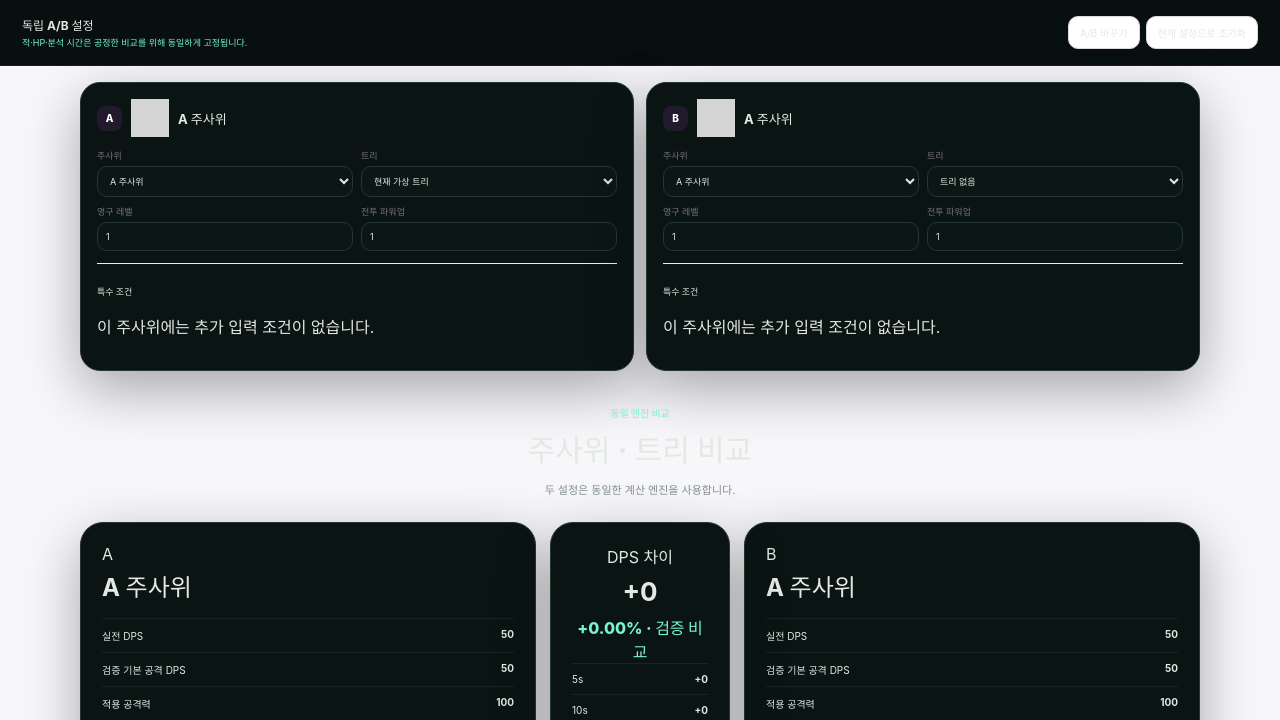
Scenario: CompareWorkspace › edits A and B independently and can swap them
The width and height of the screenshot is (1280, 720).
Select "B 주사위" in the dropdown named "B 주사위" at (791, 182), box x1=663 y1=166 x2=919 y2=197
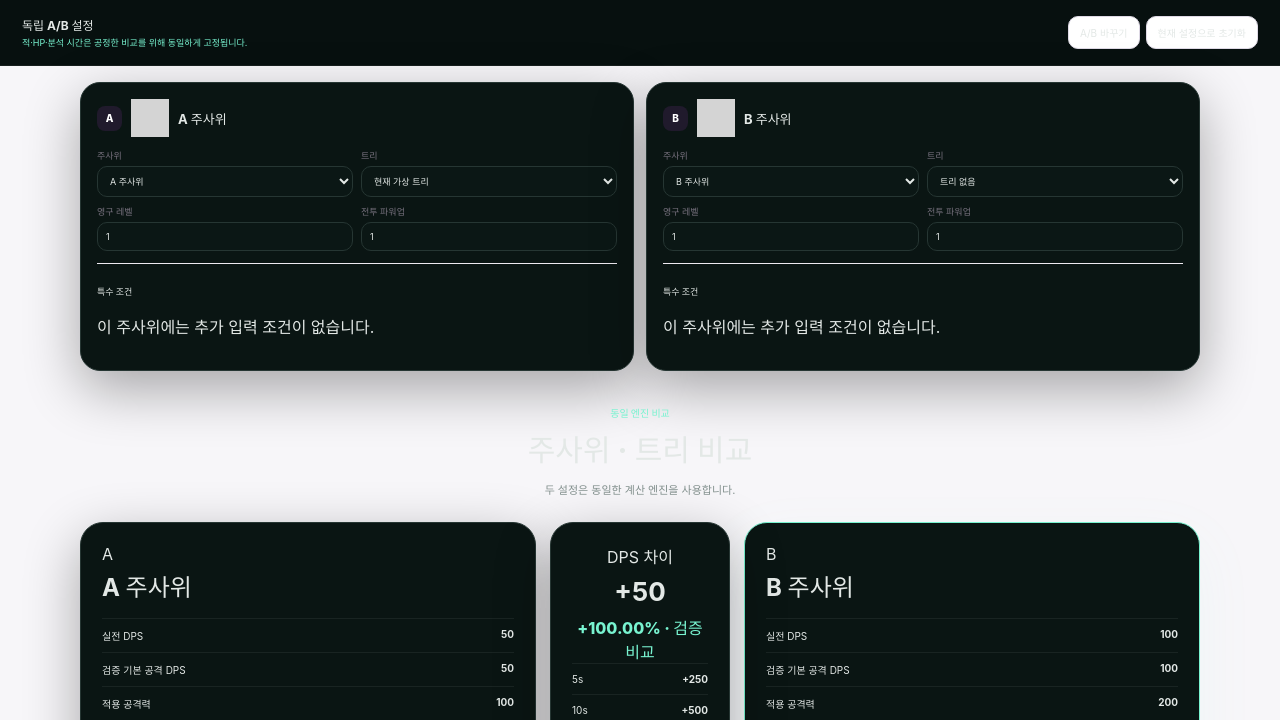
Replace the text in the number field named "B 영구 레벨" with "4" at (791, 236), box x1=663 y1=222 x2=919 y2=251
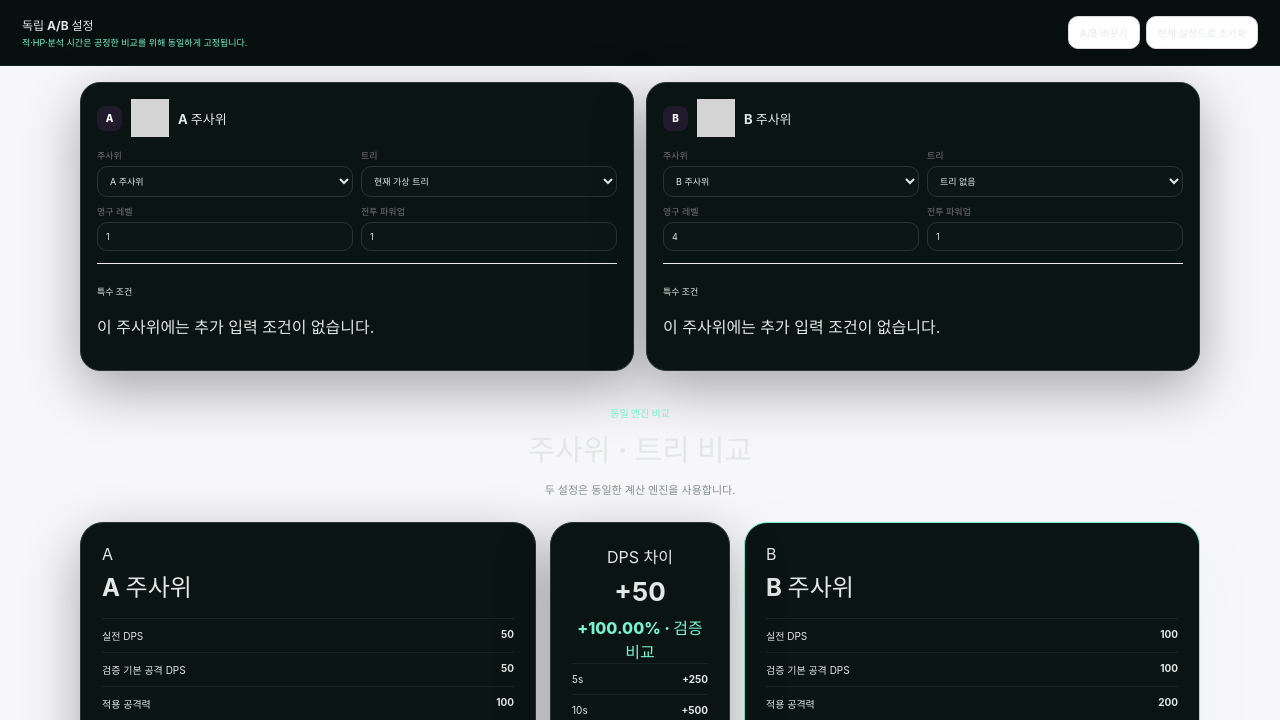
Check: the dropdown named "A 주사위" shows "A 주사위", box x1=97 y1=166 x2=353 y2=197
Check: the text with test id "compare-right-dps" reads "100", box x1=1160 y1=628 x2=1178 y2=640
Click the button "A/B 바꾸기".
click(1104, 32)  # box x1=1068 y1=16 x2=1140 y2=49
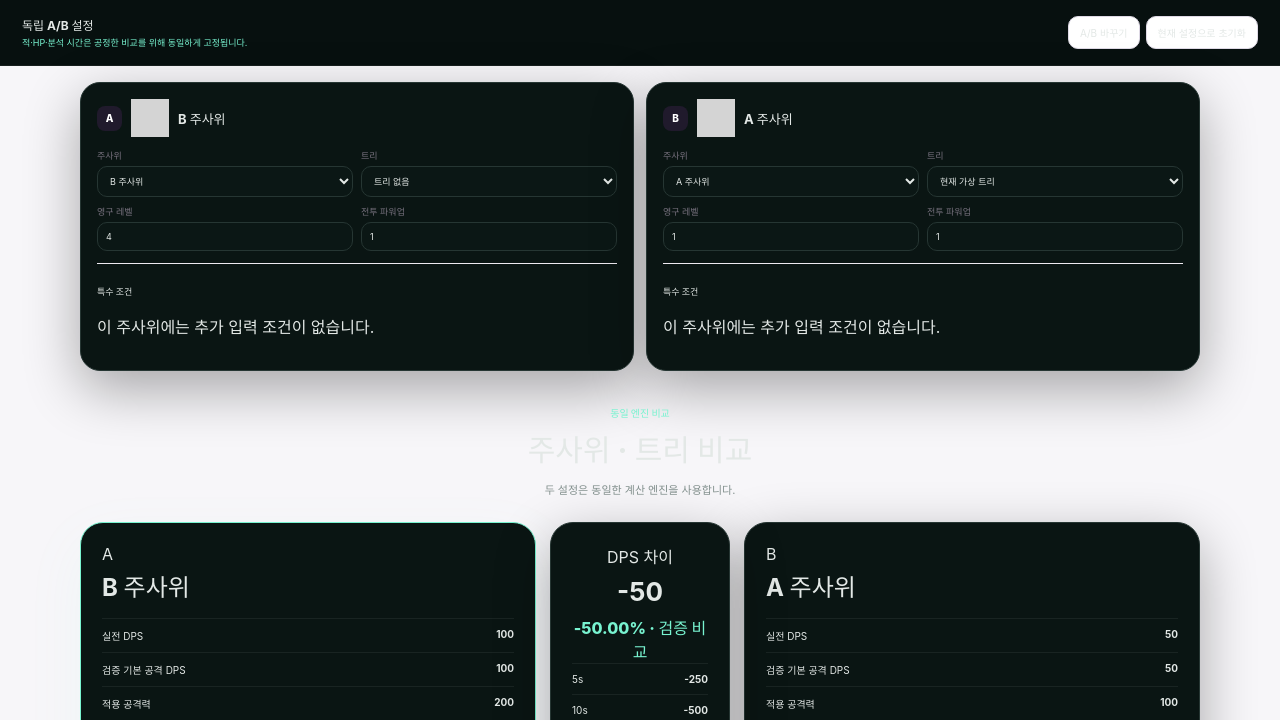
Check: the dropdown named "A 주사위" shows "B 주사위", box x1=97 y1=166 x2=353 y2=197
